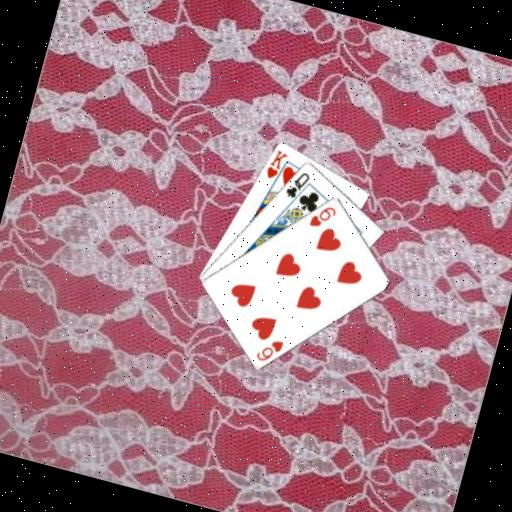6H: (305, 198, 339, 233), (252, 331, 286, 366)
KH: (261, 145, 290, 183)
QC: (281, 165, 312, 202)
